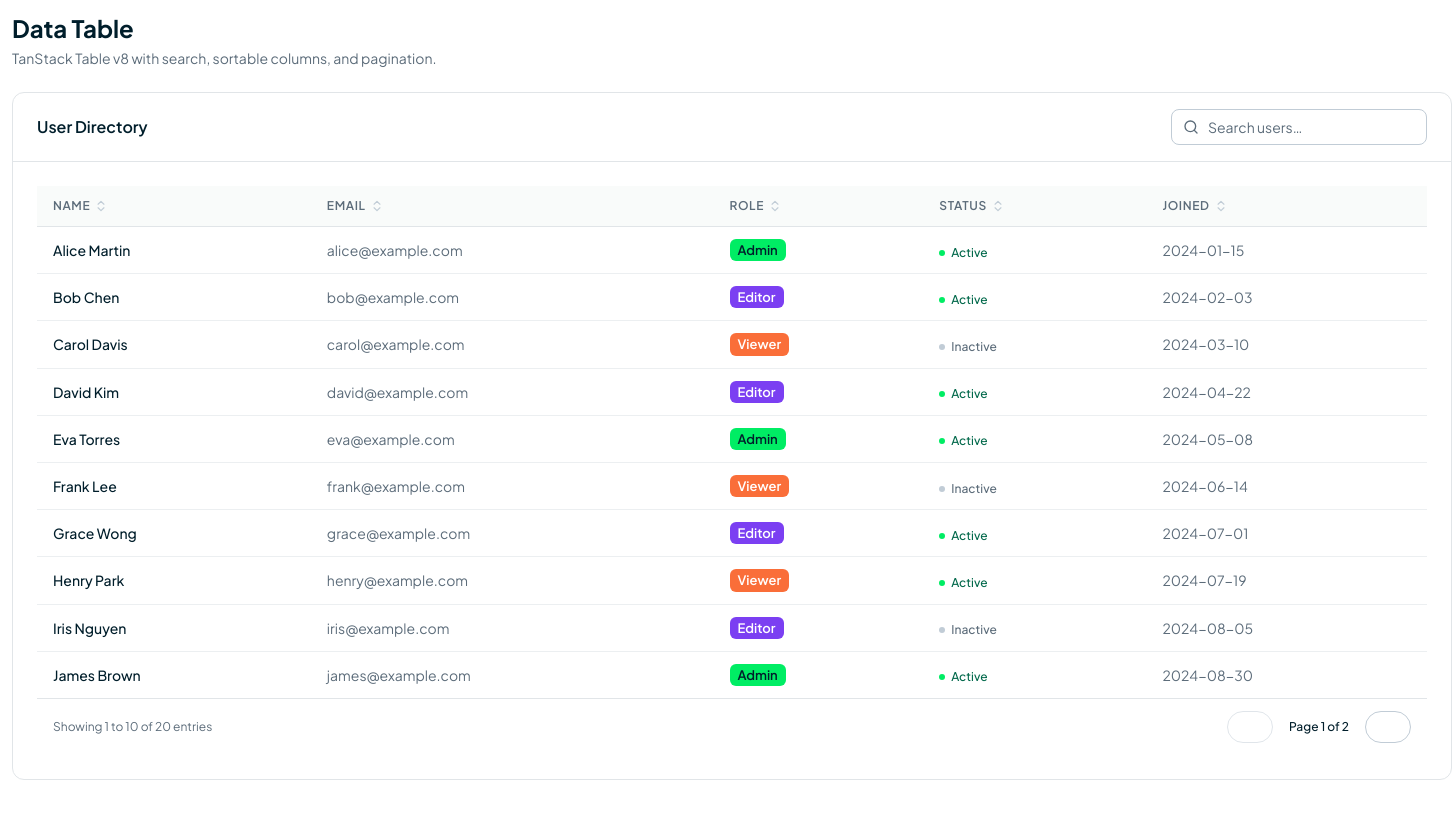
Test case: DataTablePage › navigates to next page
Click the button named "next".
click(1388, 727)  # box top-left (1365, 711), bottom-right (1411, 743)
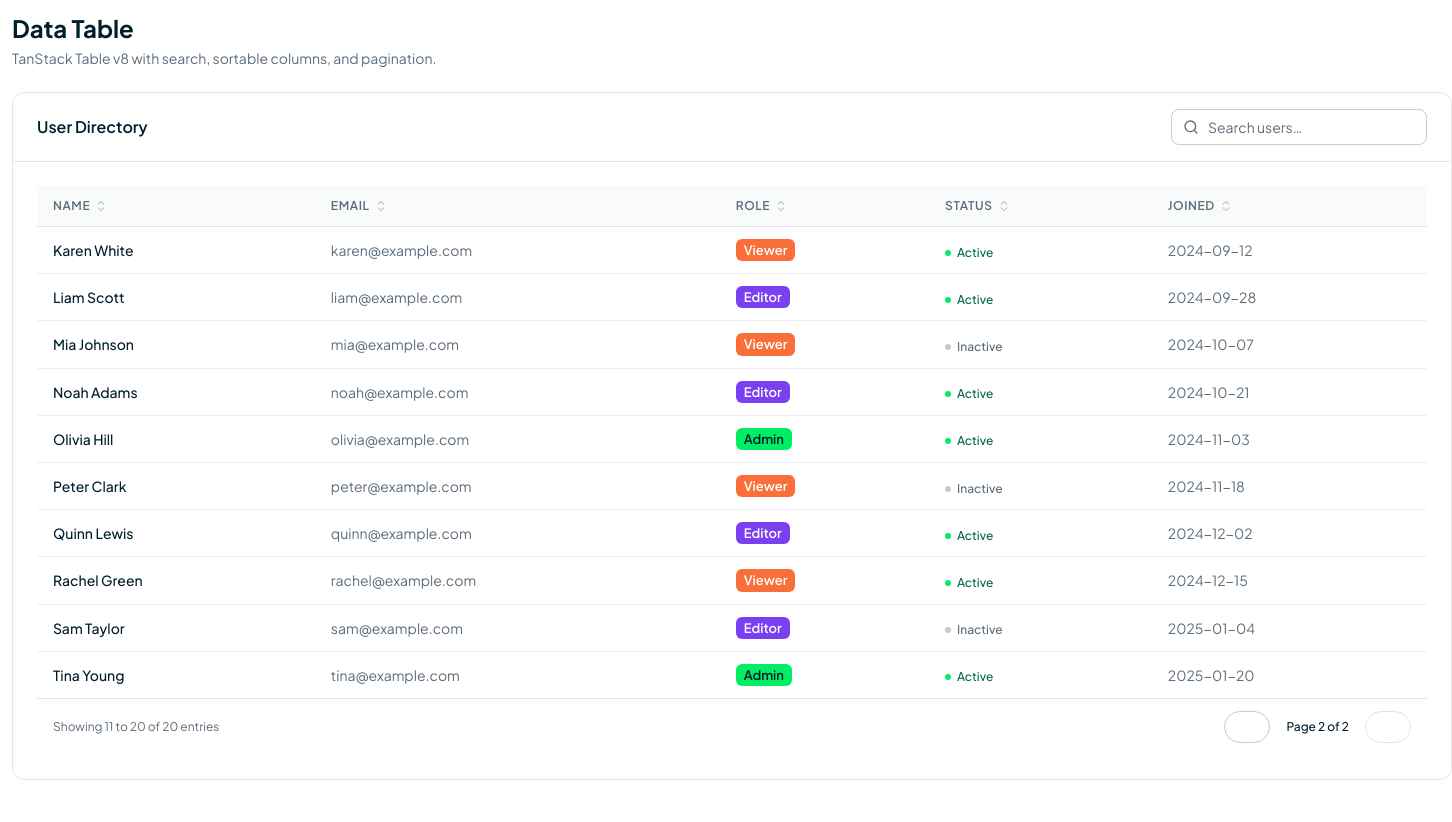
Now the text "Karen White" is shown, box top-left (53, 241), bottom-right (134, 259)
